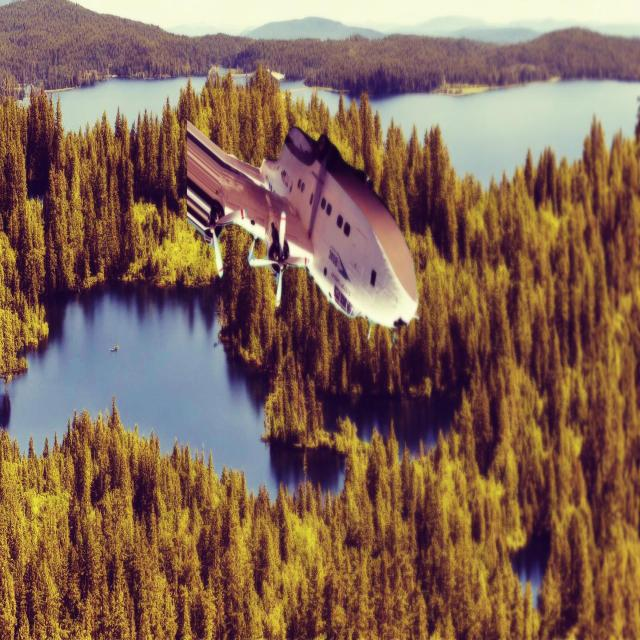airplane: (185, 119, 420, 344)
